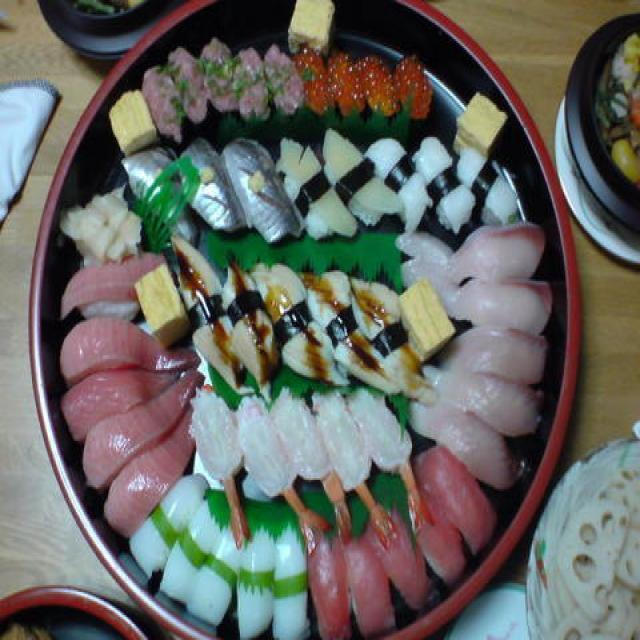Sushi: (59, 35, 539, 586)
